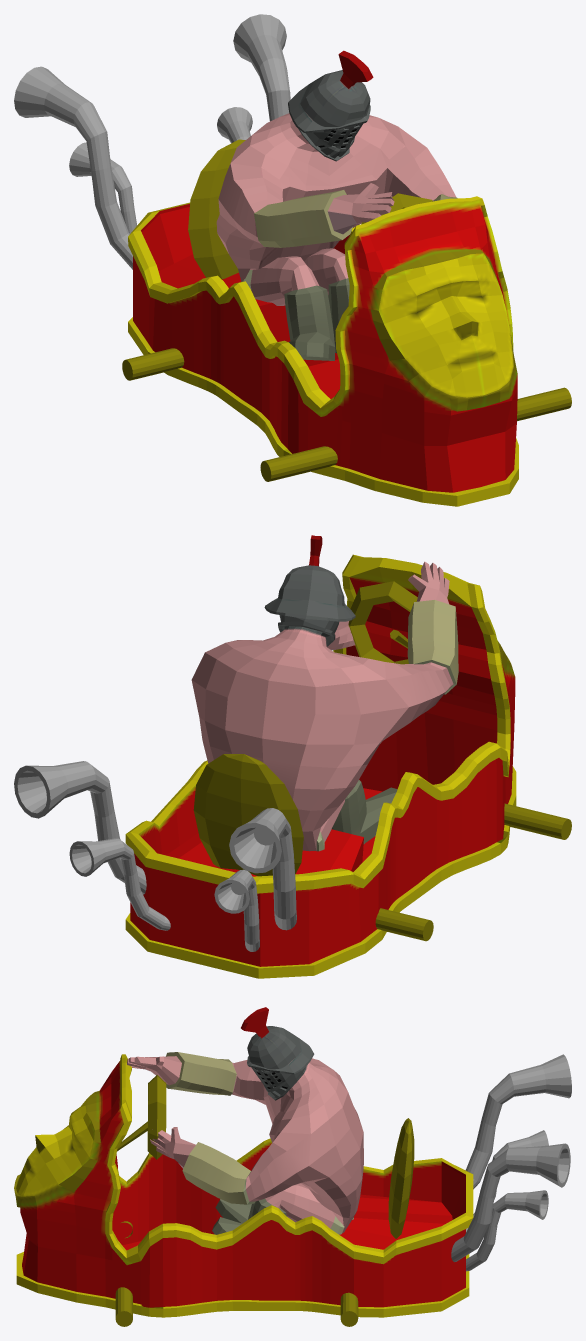
The model's file is gladiVacile_000509.obj.
3 renders of one model, top to bottom at view 1: azimuth 30°, elevation 25°; view 2: azimuth 150°, elevation 25°; view 3: azimuth 270°, elevation 25°, orthographic. The views are drawn at different scales.
Visible parts, largest first — view 1: GladiChasis_GladiChasisH, Gadiador_Gladiador_H.001, GladiTubos_GladiTubosH, GladiVolante_GladiVolanteH; view 2: GladiChasis_GladiChasisH, Gadiador_Gladiador_H.001, GladiTubos_GladiTubosH, GladiVolante_GladiVolanteH; view 3: GladiChasis_GladiChasisH, Gadiador_Gladiador_H.001, GladiTubos_GladiTubosH, GladiVolante_GladiVolanteH.
Part boxes in pixels (x1,y1,x2,y2): GladiChasis_GladiChasisH: [128, 196, 518, 506]; Gadiador_Gladiador_H.001: [216, 50, 457, 360]; GladiTubos_GladiTubosH: [14, 14, 290, 269]; GladiVolante_GladiVolanteH: [122, 139, 571, 481]; GladiChasis_GladiChasisH: [125, 554, 516, 978]; Gadiador_Gladiador_H.001: [191, 535, 458, 851]; GladiTubos_GladiTubosH: [14, 761, 296, 951]; GladiVolante_GladiVolanteH: [193, 581, 571, 941]; GladiChasis_GladiChasisH: [14, 1054, 473, 1317]; Gadiador_Gladiador_H.001: [127, 1007, 363, 1234]; GladiTubos_GladiTubosH: [451, 1054, 571, 1271]; GladiVolante_GladiVolanteH: [115, 1075, 414, 1326].
Size of the model in its own units: 5.46 by 5.77 by 10.78.
